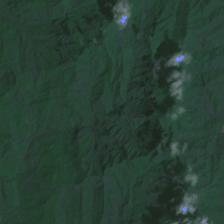landslides: (155, 199, 173, 210), (51, 31, 68, 42), (172, 96, 180, 116), (160, 129, 180, 136), (141, 91, 155, 101), (141, 76, 153, 87), (171, 114, 185, 123), (76, 47, 90, 55)
